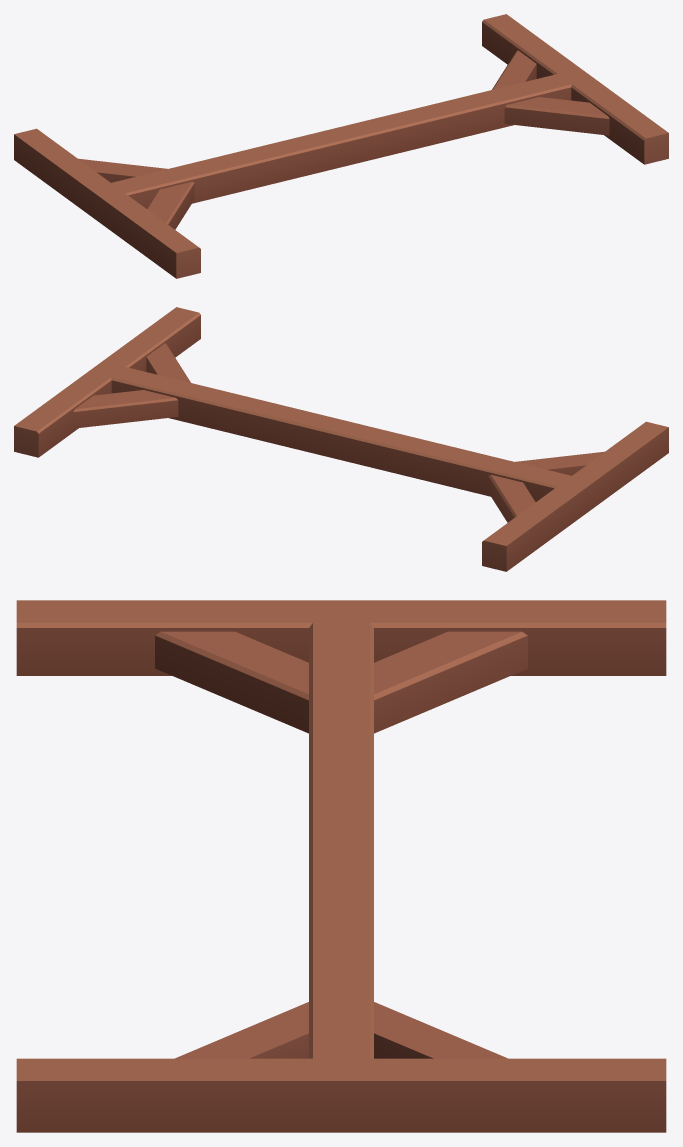
The model's file is scaffold_beams_connected.glb.
The picture shows the model from 3 angles, top to bottom: view 1: azimuth 30°, elevation 25°; view 2: azimuth 150°, elevation 25°; view 3: azimuth 270°, elevation 25°; orthographic projection. The views are drawn at different scales.
Parts seen in each view (by area): view 1: scaffold_beams_connected; view 2: scaffold_beams_connected; view 3: scaffold_beams_connected.
Part boxes in pixels (x1=…): scaffold_beams_connected: x1=14, y1=14, x2=668, y2=278; scaffold_beams_connected: x1=14, y1=307, x2=668, y2=571; scaffold_beams_connected: x1=16, y1=600, x2=666, y2=1132.
Bounding box in the file's own units: 7 × 0.35 × 4.
1 material, 1 textured.
